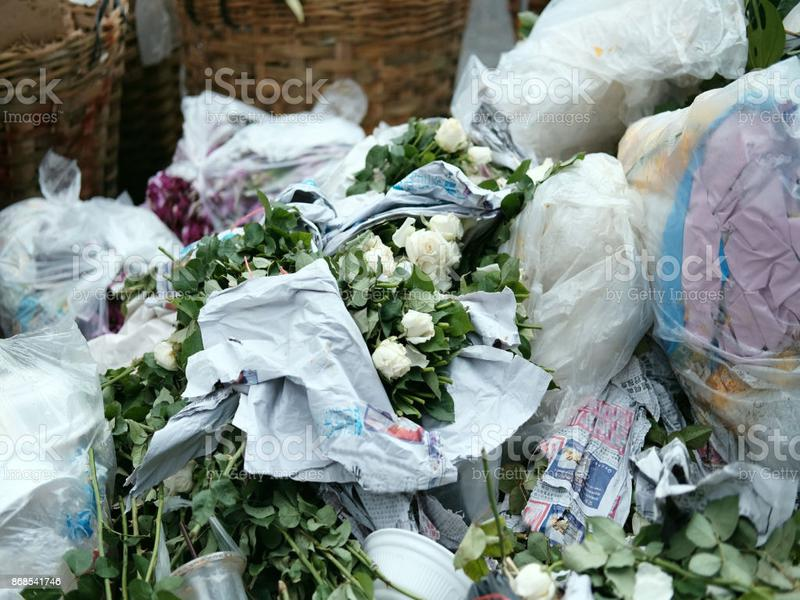flowers: (317, 208, 468, 398), (407, 116, 556, 188)
leaf: (675, 549, 727, 581)
paper: (201, 273, 393, 486), (503, 389, 652, 530), (628, 435, 800, 527), (434, 344, 557, 458), (464, 282, 527, 351)
plastic: (613, 61, 800, 376), (453, 1, 765, 162), (508, 148, 658, 392), (1, 321, 128, 600), (1, 144, 184, 333)
